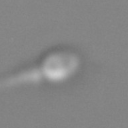normal: (1, 61, 40, 94)
